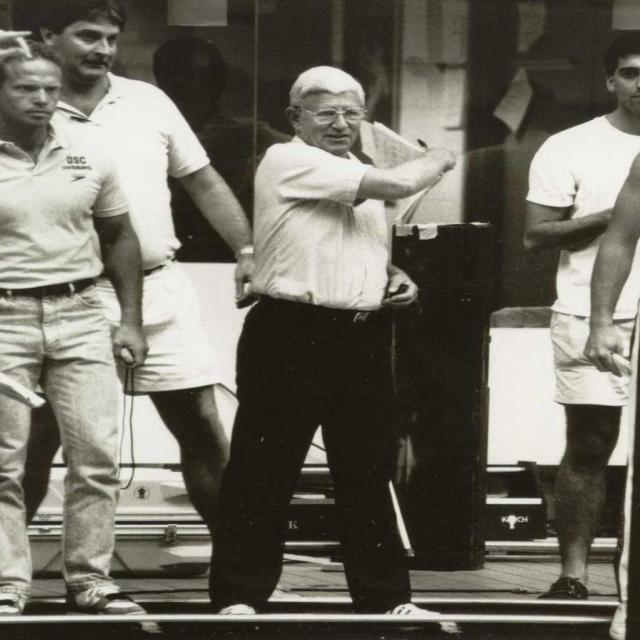nomask: (302, 85, 366, 149), (58, 13, 120, 75), (8, 59, 59, 126)
